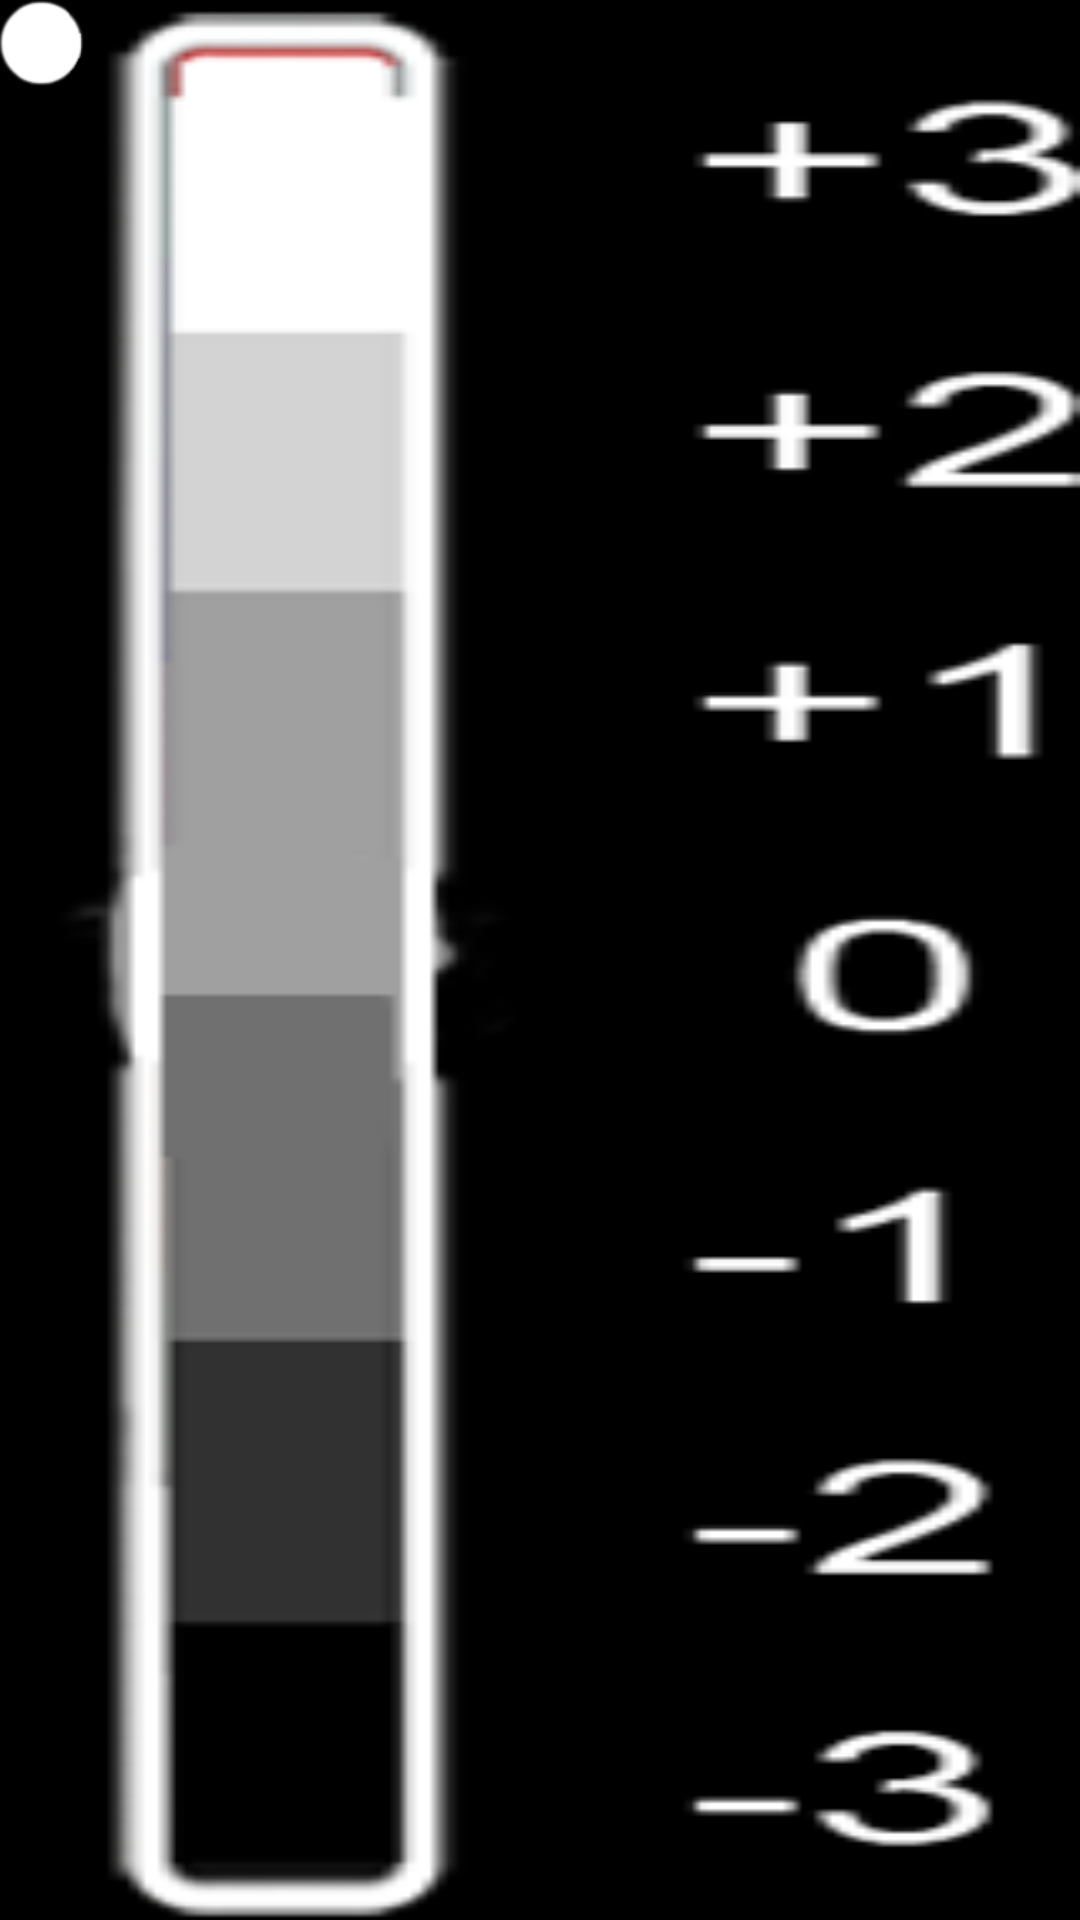

Icons on this 1080*1920 Android screen, each with the point to tap as (x=x, y=y):
ajust dot: (x=41, y=43)
